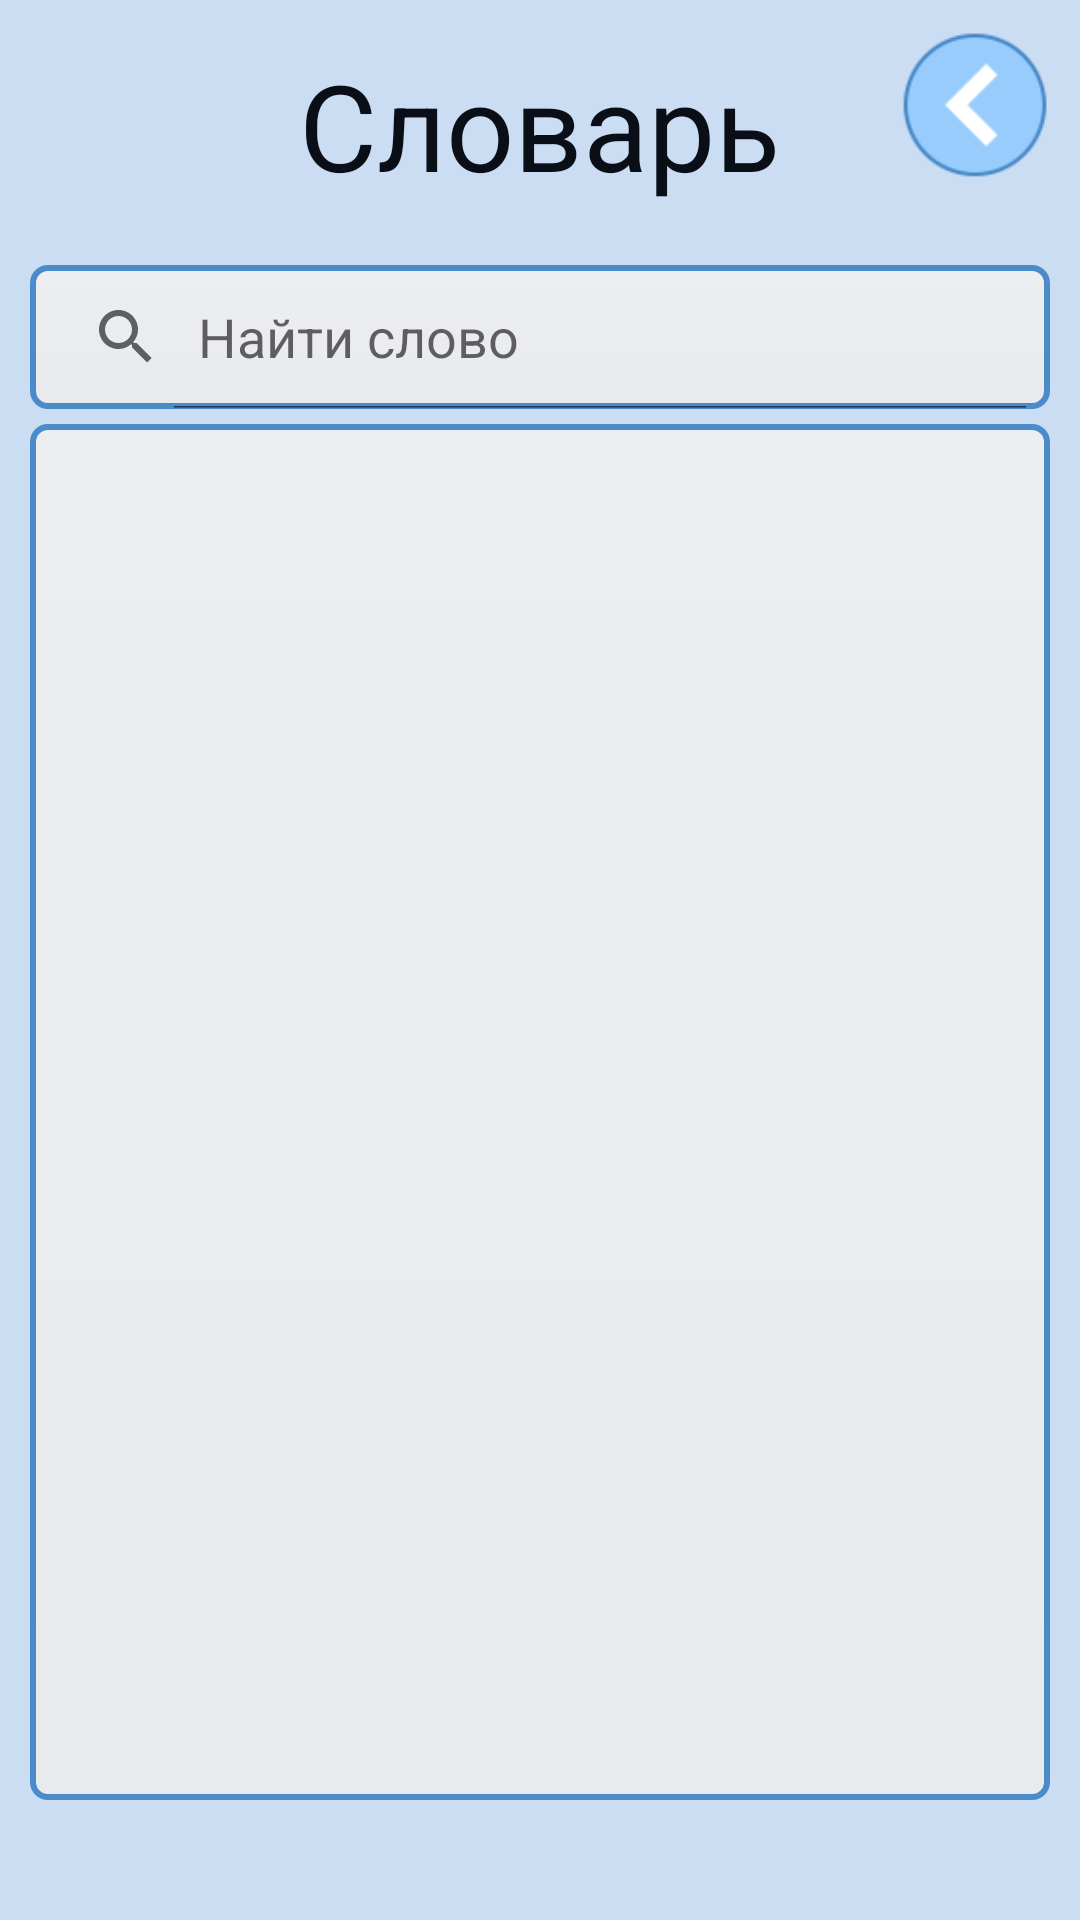

Icons on this 1080 × 1920 Android screen, each with the point to tap as [x,y]:
arrow menu: [975,105]
